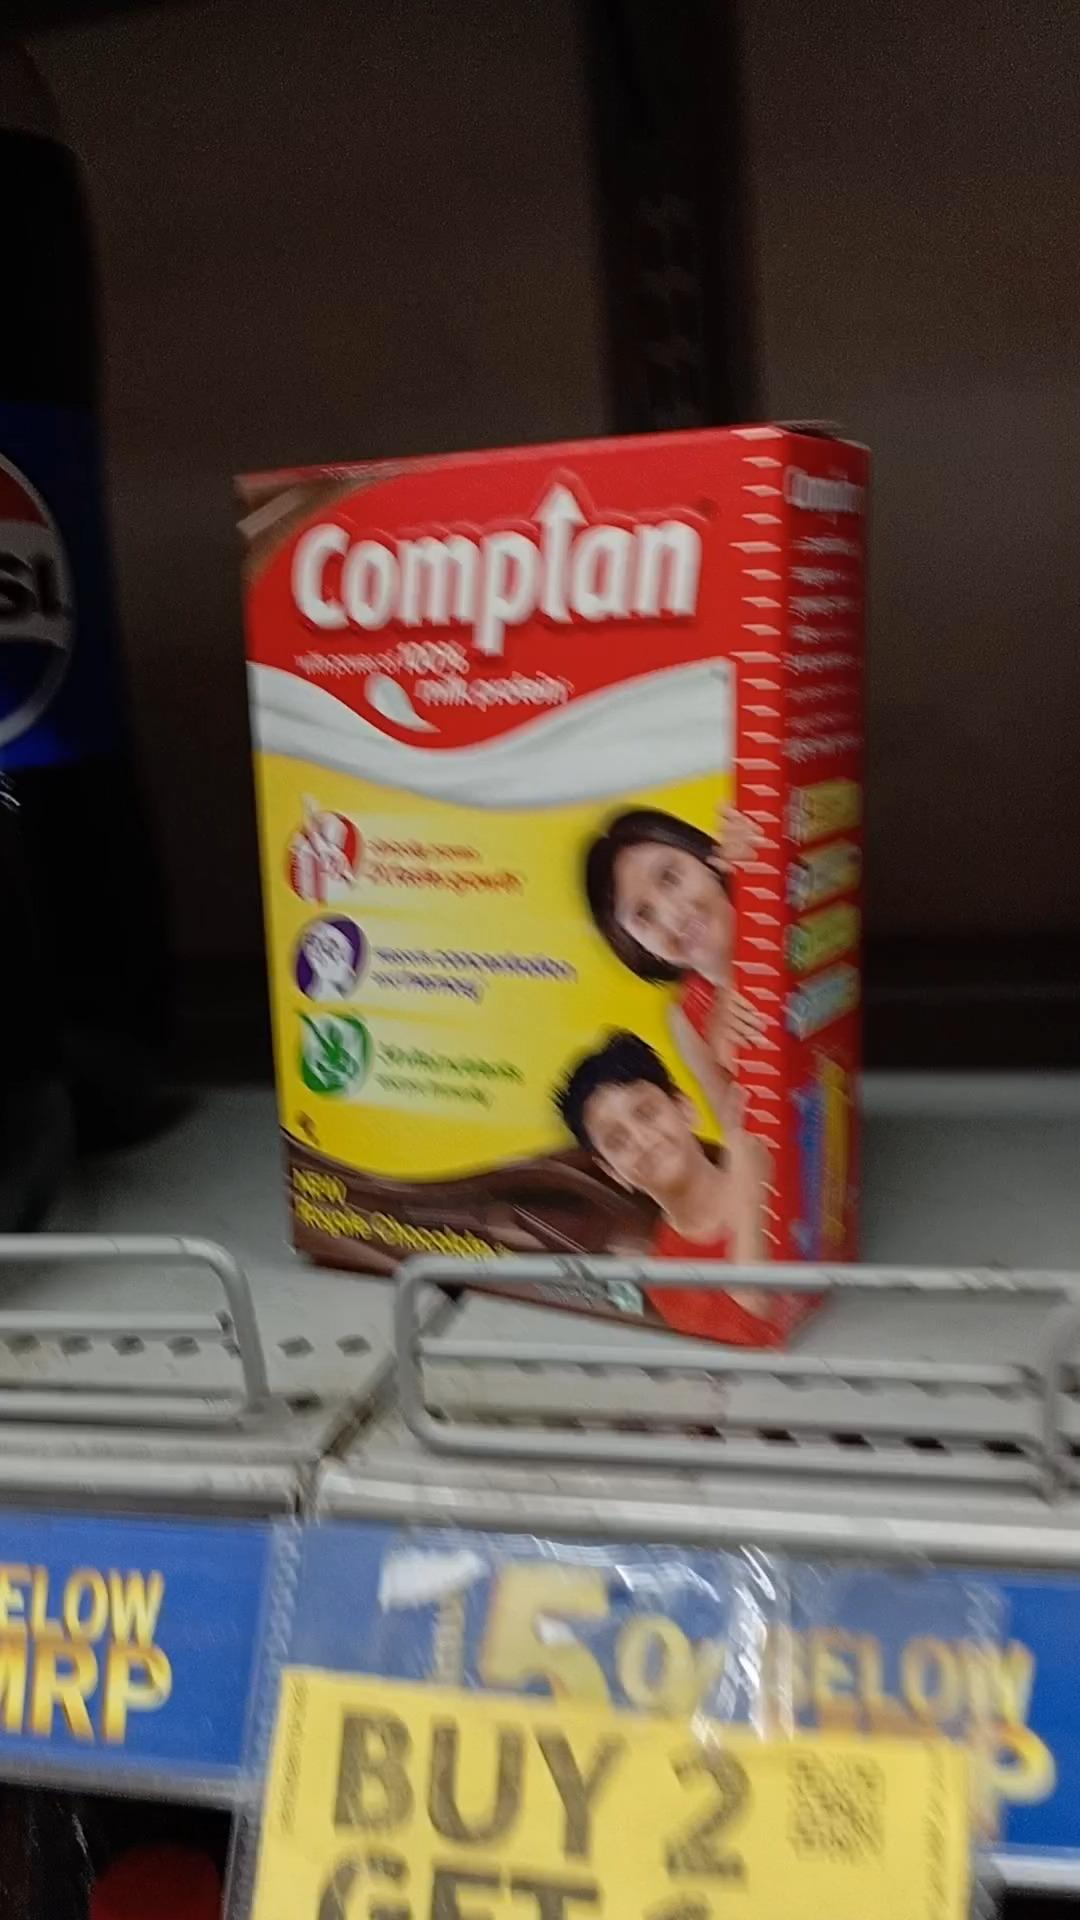COMPLAN_CHOCOLATE_200_GMS_PACK: (268, 459, 786, 1321)
